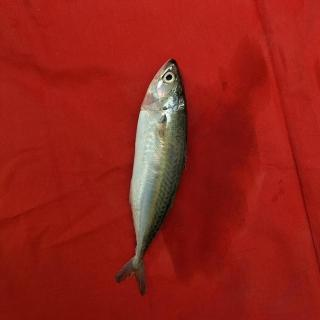Ikan: (106, 45, 201, 299)
